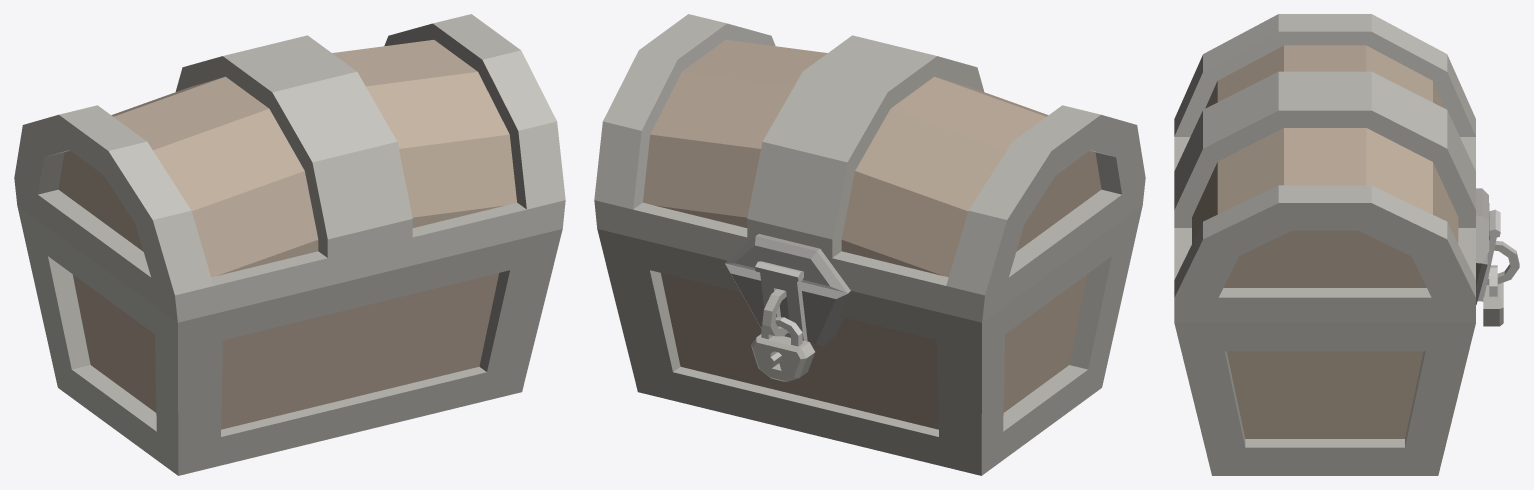
File: Prop_Treasure_Chest.glb
The picture shows the model from 3 angles, left to right: view 1: azimuth 30°, elevation 25°; view 2: azimuth 150°, elevation 25°; view 3: azimuth 270°, elevation 25°; orthographic projection. The views are drawn at different scales.
Visible parts, largest first — view 1: object9, object5, object4, object1; view 2: object9, object4, object5, object1, object10, object2, object7, object8, object3, object6; view 3: object9, object4, object5, object1, object7, object2, object3.
Part boxes in pixels (box(x1,y1,x2,y2)): object9: box(14, 14, 565, 322); object5: box(17, 205, 562, 475); object4: box(58, 40, 516, 277); object1: box(72, 273, 498, 429); object9: box(594, 14, 1145, 322); object4: box(643, 40, 1101, 277); object5: box(597, 205, 1142, 475); object1: box(661, 273, 1087, 429); object10: box(725, 263, 850, 345); object2: box(725, 234, 850, 293); object7: box(751, 317, 815, 381); object8: box(760, 272, 807, 341); object3: box(762, 289, 787, 336); object6: box(755, 261, 803, 281); object9: box(1174, 14, 1475, 322); object4: box(1192, 45, 1458, 287); object5: box(1174, 323, 1475, 475); object1: box(1226, 351, 1423, 438); object7: box(1483, 265, 1503, 326); object2: box(1476, 188, 1489, 262); object3: box(1487, 241, 1519, 285).
Bounding box in the file's own units: 0.9714 × 0.7334 × 0.7495.
